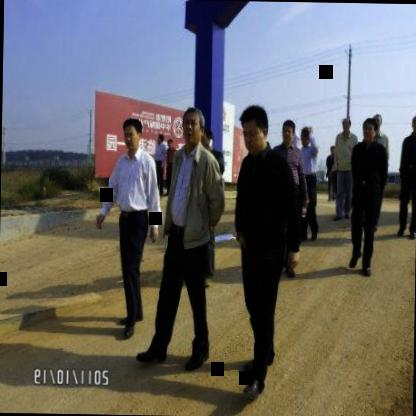head: (238, 102, 272, 160), (181, 105, 203, 150), (120, 115, 145, 154), (361, 114, 377, 146), (281, 118, 297, 146), (299, 122, 312, 152), (339, 116, 353, 136), (409, 109, 416, 136)
